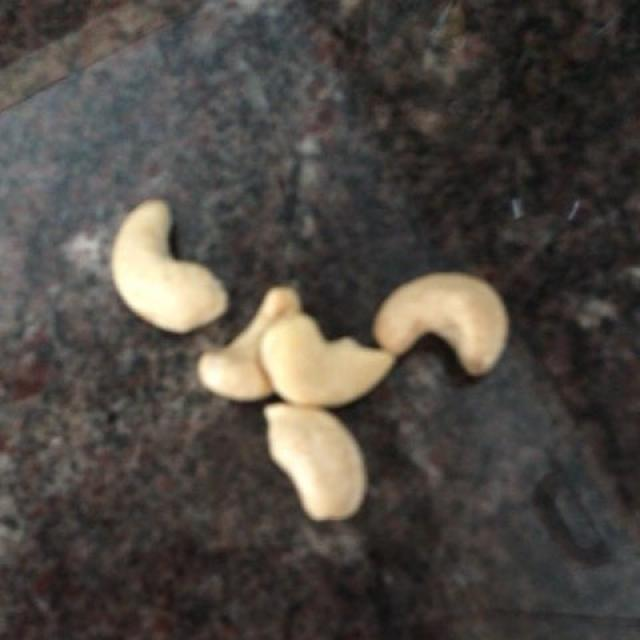cashew-nut: (118, 195, 503, 528)
